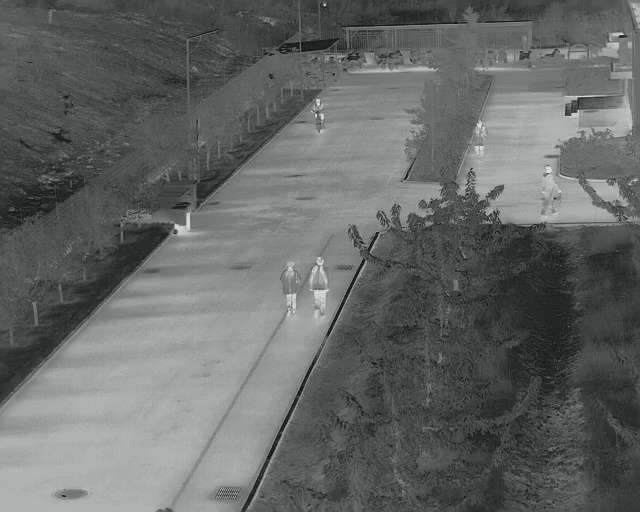NonMotorVehicle: (311, 97, 328, 133)
person: (306, 256, 332, 322), (280, 261, 301, 314), (540, 165, 561, 218), (472, 117, 488, 155)
